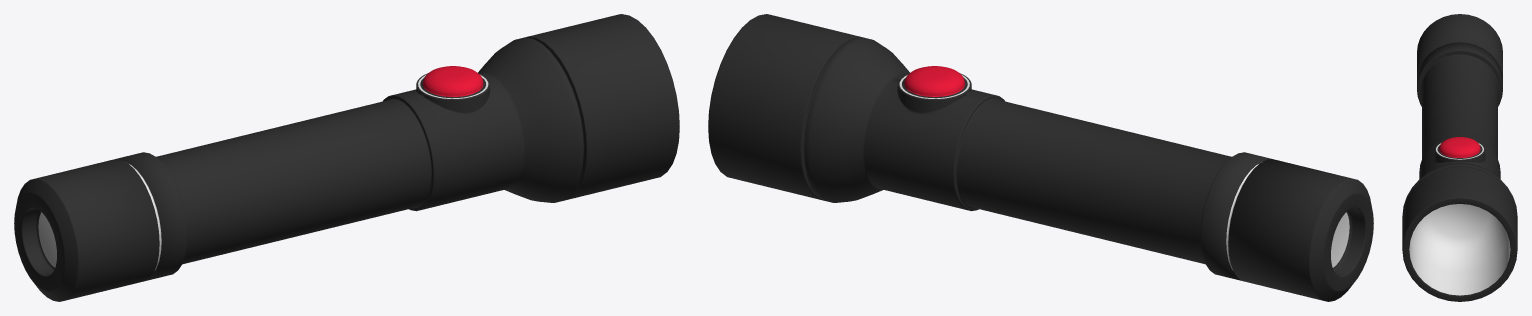
The model's file is flashlight1.fbx.
3 views of the same model, side by side, from view 1: azimuth 30°, elevation 25°; view 2: azimuth 150°, elevation 25°; view 3: azimuth 270°, elevation 25° (orthographic). The views are drawn at different scales.
Visible parts, largest first — view 1: Cylinder; view 2: Cylinder; view 3: Cylinder.
Part boxes in pixels (x1,y1,x2,y2): Cylinder: (14, 14, 679, 301); Cylinder: (708, 14, 1373, 301); Cylinder: (1402, 14, 1517, 301).
Bounding box in the file's own units: 4.39 × 17.99 × 4.39.
